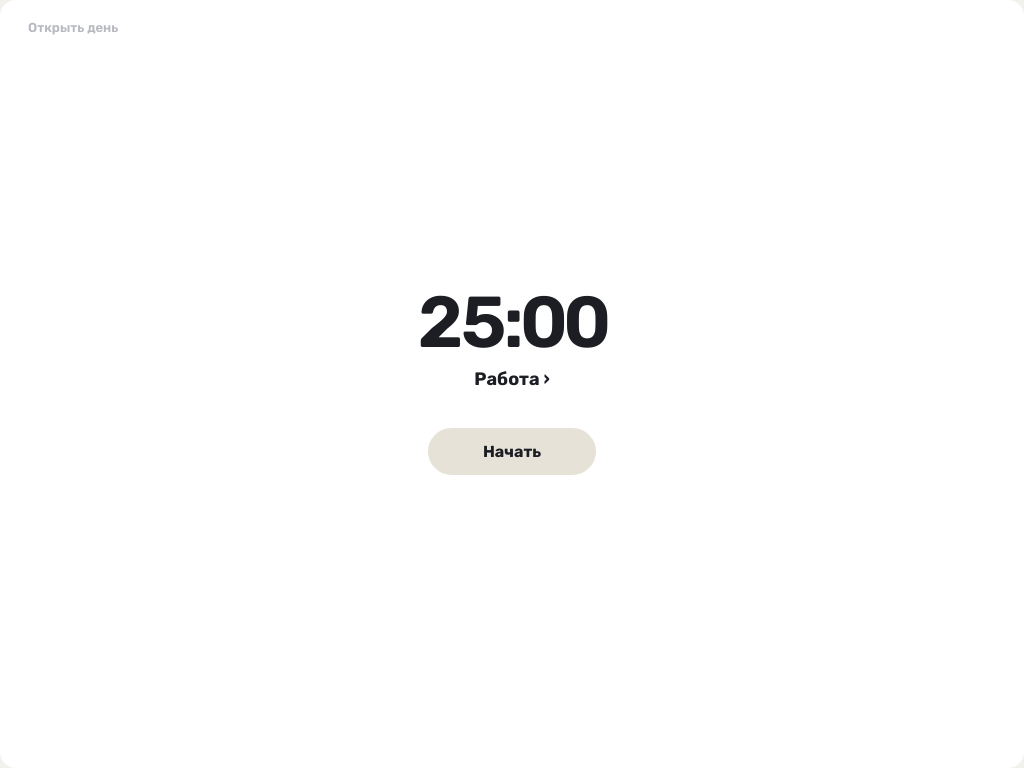
it: panel swipes › opens the summary below and returns without closing the widget
Press the mouse on the element with class "deck" at (310, 243), box [14,12,607,475]
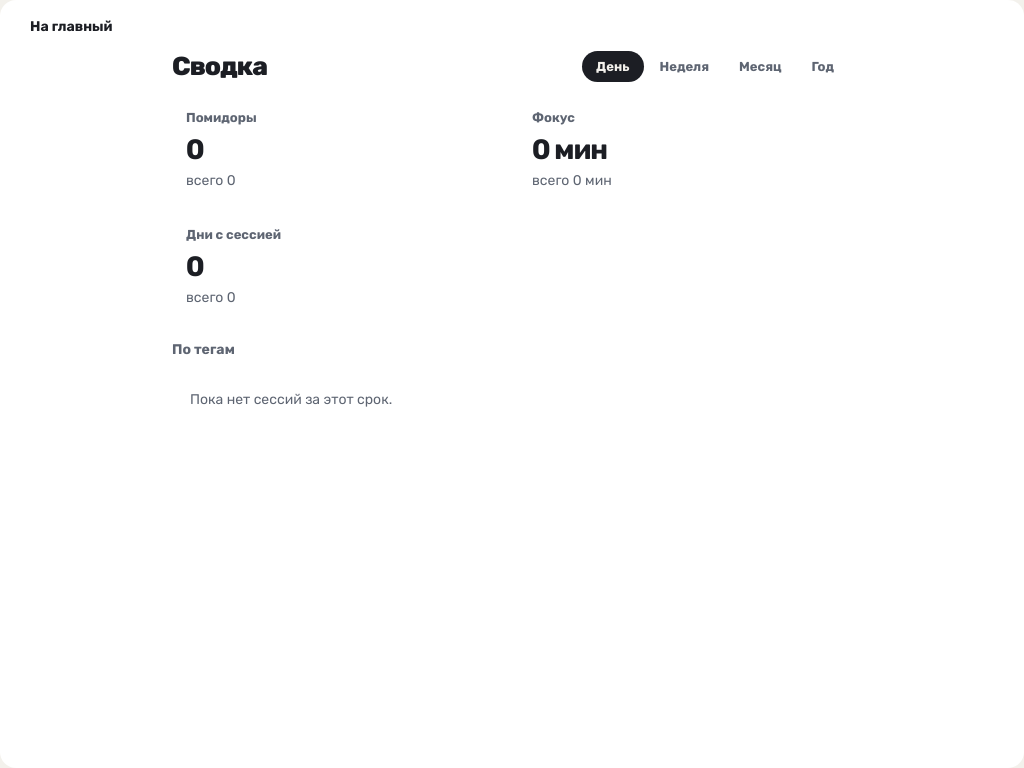
Expected: the heading "Сводка" is shown, [172,51,267,82]
Press Escape
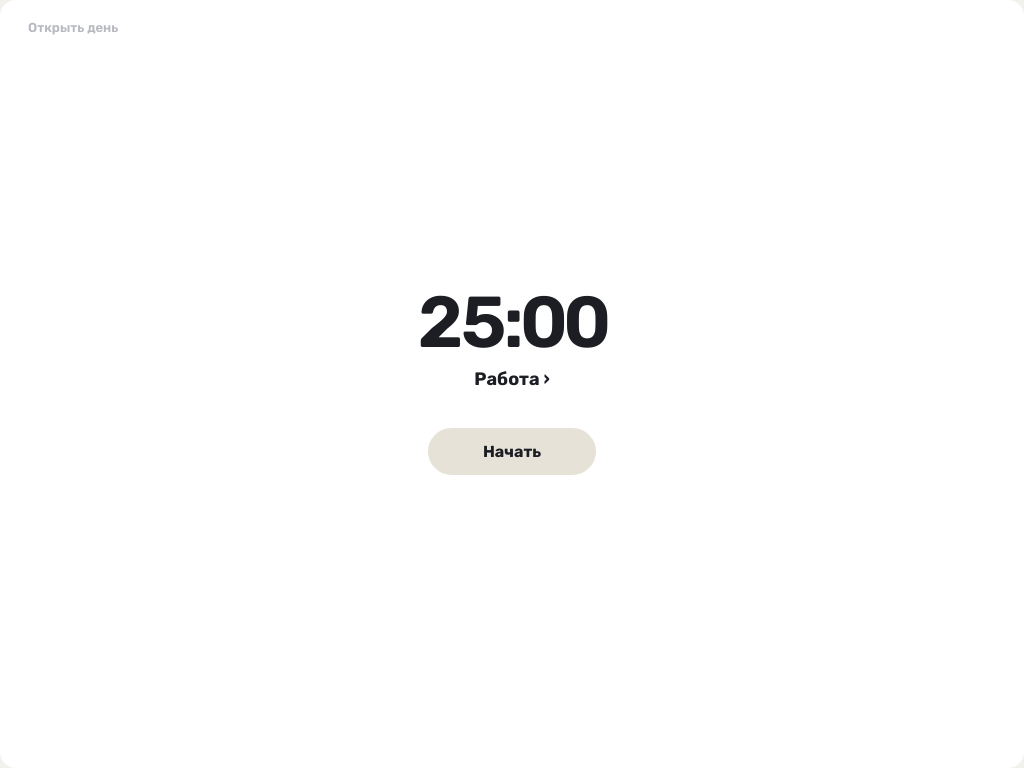
Expected: the heading "Сводка" is gone
Expected: the button "Начать" is shown, [428,428,596,475]
